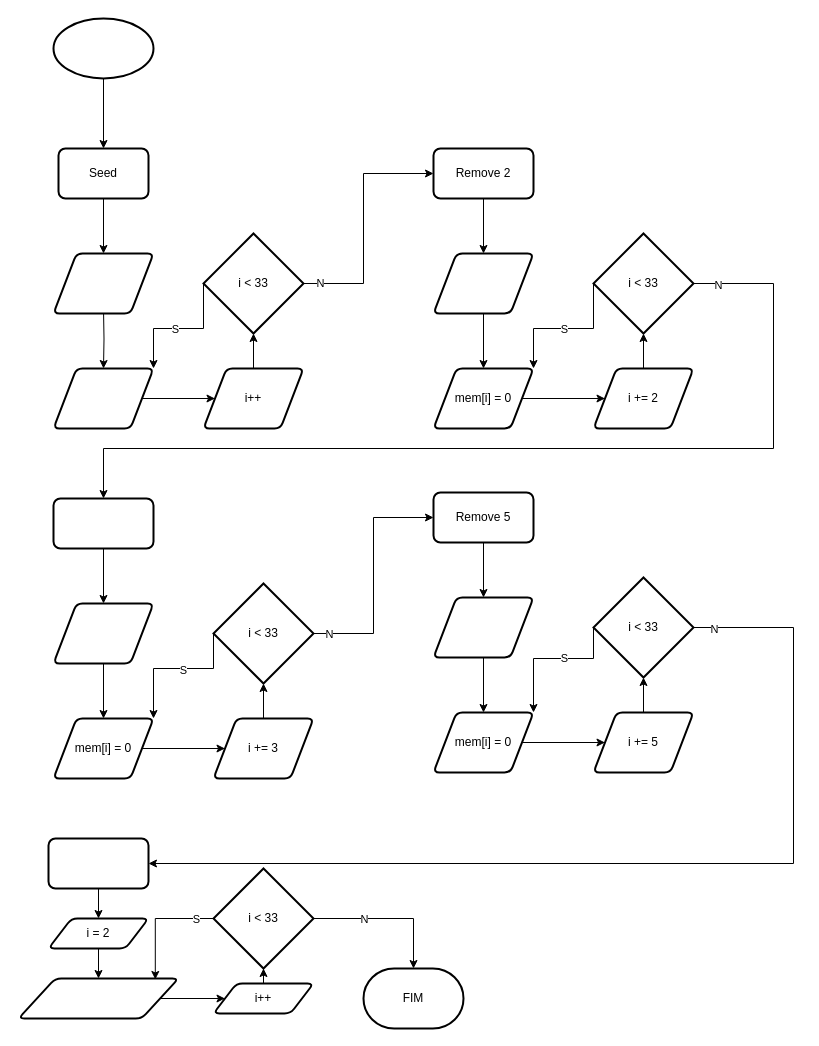
The diagram is 819 pixels wide and 1046 high, and some of its shapes have lost their labels. Here are the shapes that lost their labels. From the top down, the centre of each, then its label:
At pixel 103 48: "INICIO".
At pixel 103 283: "i = 1".
At pixel 483 283: "i = 4".
At pixel 103 398: "mem[i] = i".
At pixel 103 523: "Remove 3".
At pixel 103 633: "i = 9".
At pixel 483 627: "i = 25".
At pixel 98 863: "Print".
At pixel 98 998: "mem[127] = mem[i]".
